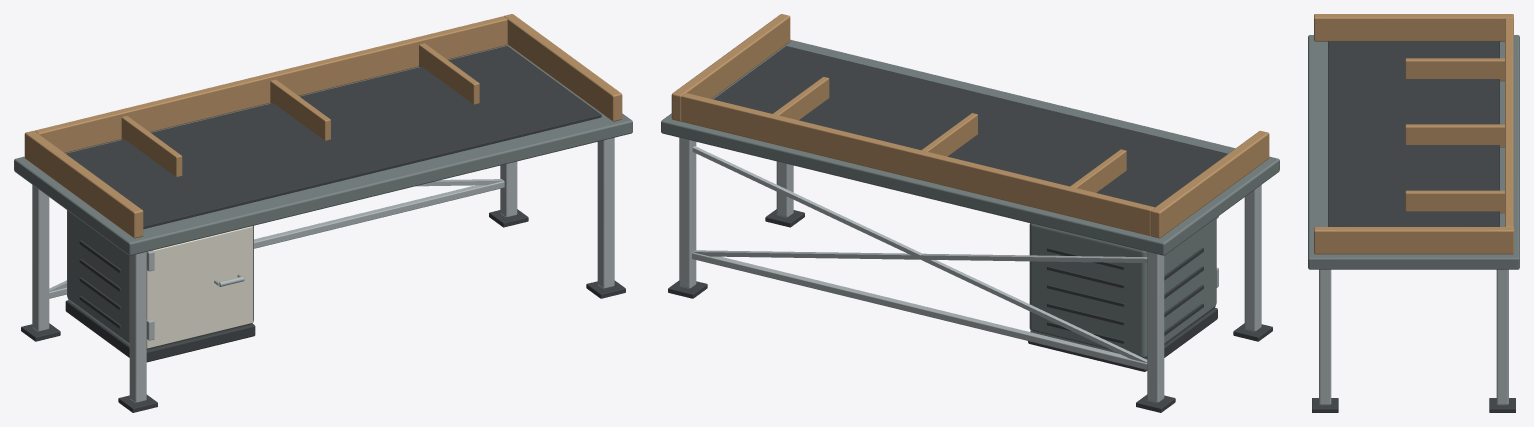
Rendered from pneumatic-tube-mail-exchange-pneumatic-tube-mail-excha-30ad6ffa__32321.glb.
The picture shows the model from 3 angles, left to right: view 1: azimuth 30°, elevation 25°; view 2: azimuth 150°, elevation 25°; view 3: azimuth 270°, elevation 25°; orthographic projection. The views are drawn at different scales.
Parts seen in each view (by area): view 1: pneumatic-tube-mail-exchange-recessed-dispatch-sorting-count (×5); view 2: pneumatic-tube-mail-exchange-recessed-dispatch-sorting-count (×4); view 3: pneumatic-tube-mail-exchange-recessed-dispatch-sorting-count (×4).
Boxes of the visible parts, bbox=[...] form: pneumatic-tube-mail-exchange-recessed-dispatch-sorting-count (×5): bbox=[14, 14, 632, 412]; pneumatic-tube-mail-exchange-recessed-dispatch-sorting-count (×4): bbox=[661, 14, 1279, 412]; pneumatic-tube-mail-exchange-recessed-dispatch-sorting-count (×4): bbox=[1308, 14, 1519, 412].
Bounding box in the file's own units: 2.78 × 1.05 × 1.11.
